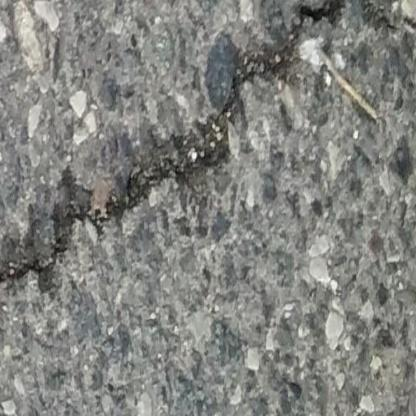Cracks: (0, 0, 402, 330)
